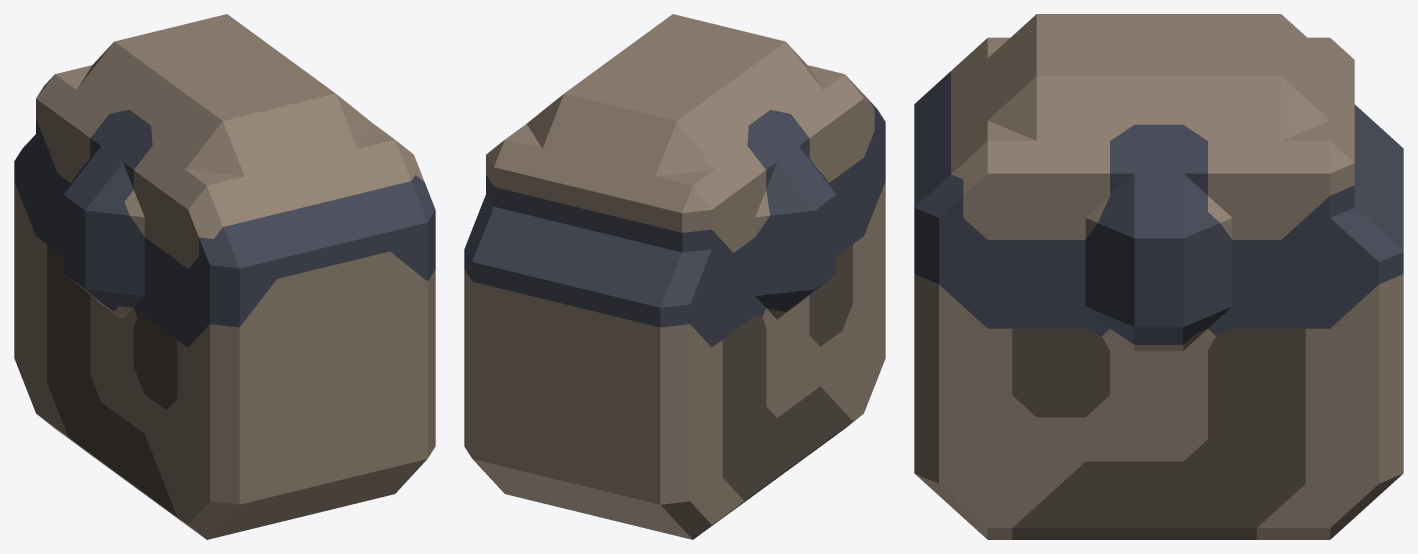
The model's file is Shell equip.glb.
3 renders of one model, left to right at view 1: azimuth 30°, elevation 25°; view 2: azimuth 150°, elevation 25°; view 3: azimuth 270°, elevation 25°, orthographic. The views are drawn at different scales.
Parts seen in each view (by area): view 1: pl0; view 2: pl0; view 3: pl0.
Part boxes in pixels (x1,y1,x2,y2): pl0: (14,14,435,539); pl0: (464,14,885,539); pl0: (914,14,1403,539).
Bounding box in the file's own units: 0.8 × 1 × 1.
Materials: 1 (1 with a texture image).
